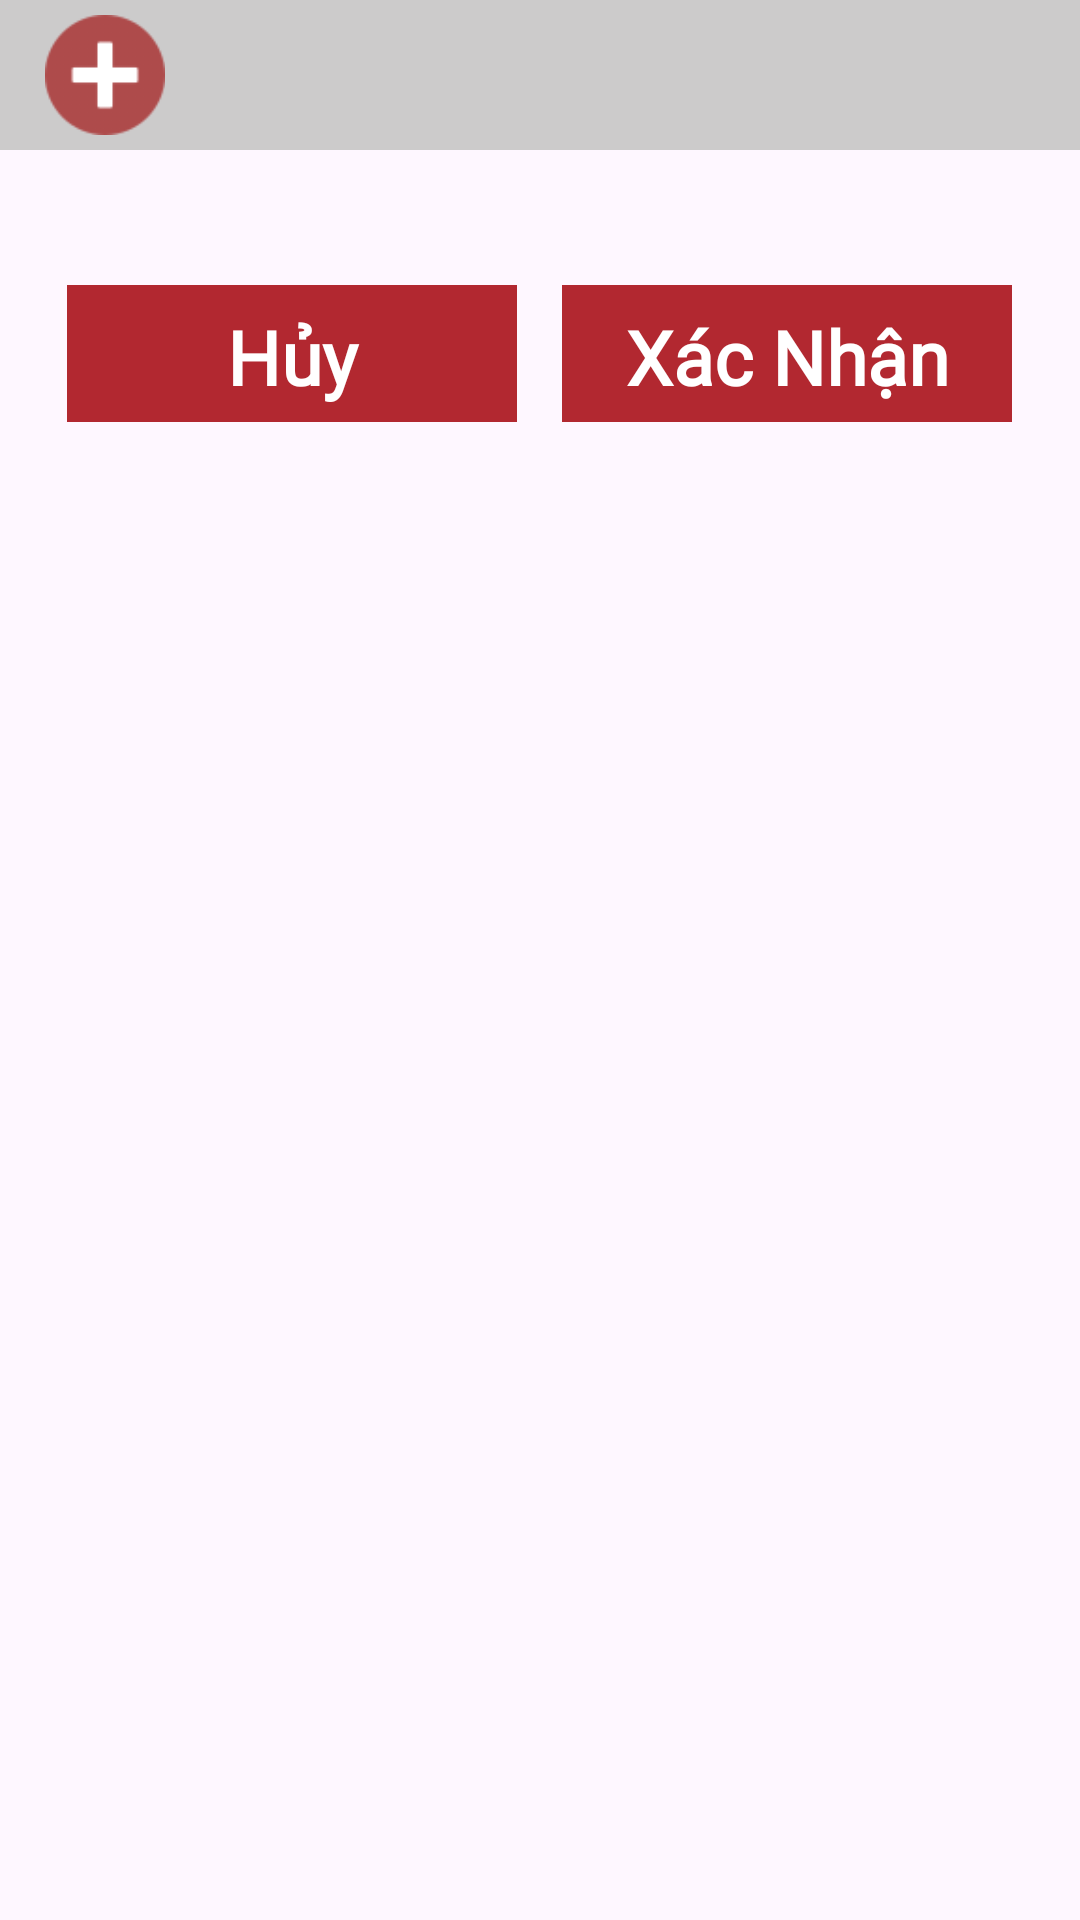

Icons on this 1080 x 1920 Android screen, each with its box as (x1, y1, x2, y2):
plus: (45, 15, 165, 135)
